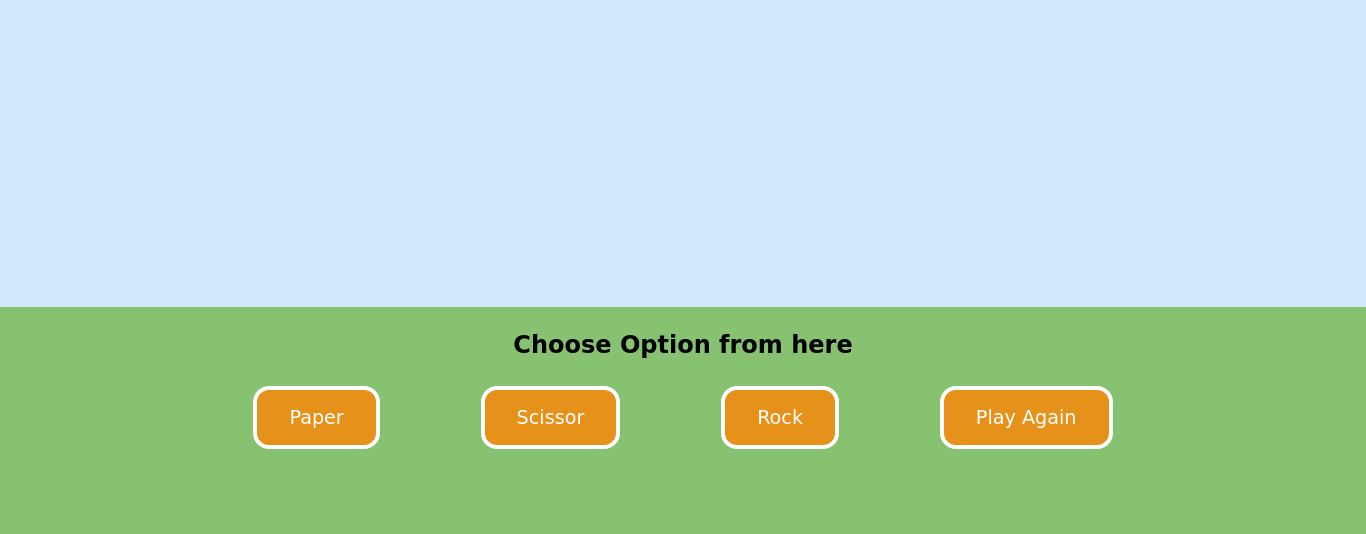
Test: <ComputerVsComputer /> › should win Computer
Click the button with test id "test-scissor_btn": (550, 418) [481, 386, 620, 449]
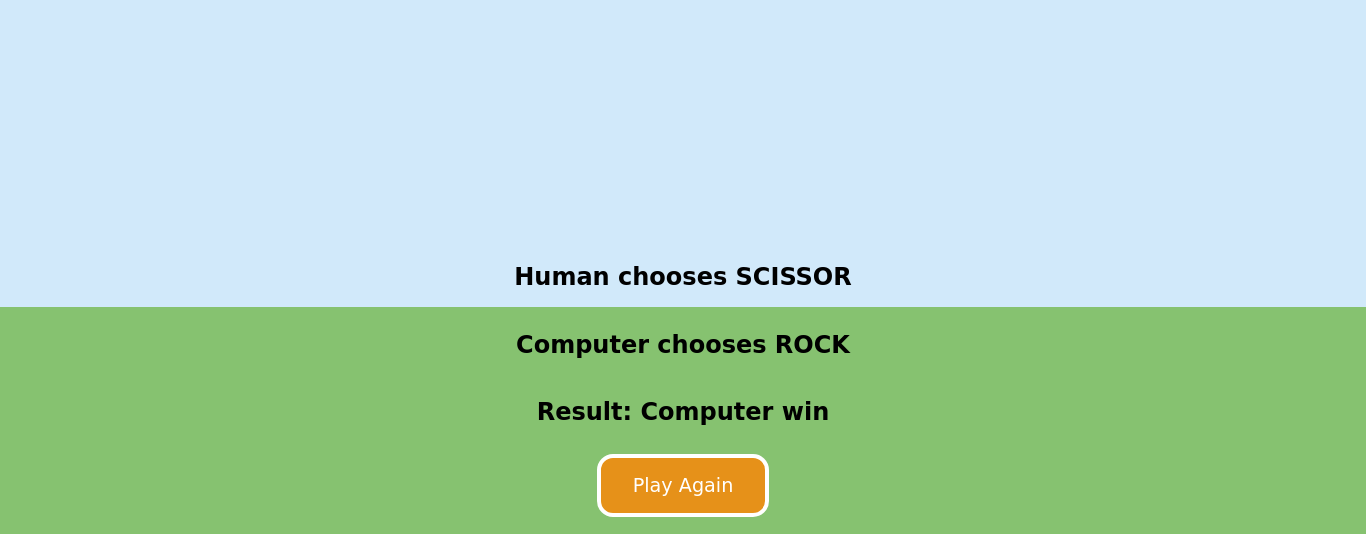
expect the heading with test id "game-result" reads "Result: Computer win": met, box [537, 398, 829, 426]
